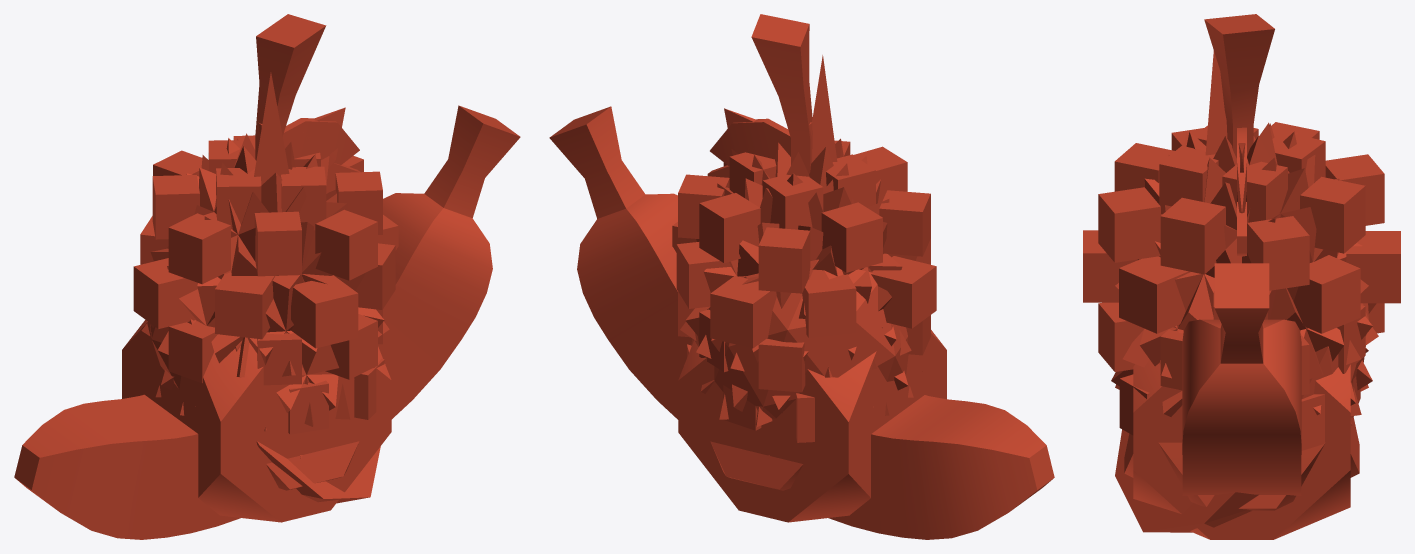
The model's file is sm_fruits.FBX.
3 renders of one model, left to right at view 1: azimuth 30°, elevation 25°; view 2: azimuth 150°, elevation 25°; view 3: azimuth 270°, elevation 25°, orthographic. The views are drawn at different scales.
Visible parts, largest first — view 1: SM_R3Z.1, SM_BANHANN, SM_P0M, SM_DURIAN, SM_P0AR, SM_AV0.K; view 2: SM_R3Z.1, SM_BANHANN, SM_P0M, SM_DURIAN, SM_AV0.K, SM_P0AR; view 3: SM_R3Z.1, SM_BANHANN, SM_DURIAN, SM_P0M, SM_AV0.K, SM_P0AR.
Boxes of the visible parts, x1=… form: SM_R3Z.1: x1=133, y1=14, x2=398, y2=434; SM_BANHANN: x1=14, y1=105, x2=520, y2=539; SM_P0M: x1=122, y1=163, x2=391, y2=522; SM_DURIAN: x1=141, y1=72, x2=389, y2=458; SM_P0AR: x1=235, y1=118, x2=359, y2=490; SM_AV0.K: x1=150, y1=246, x2=380, y2=503; SM_R3Z.1: x1=672, y1=14, x2=936, y2=442; SM_BANHANN: x1=549, y1=106, x2=1054, y2=539; SM_P0M: x1=678, y1=165, x2=946, y2=522; SM_DURIAN: x1=680, y1=55, x2=916, y2=458; SM_AV0.K: x1=691, y1=259, x2=908, y2=418; SM_P0AR: x1=710, y1=118, x2=812, y2=490; SM_R3Z.1: x1=1083, y1=14, x2=1400, y2=450; SM_BANHANN: x1=1182, y1=263, x2=1301, y2=495; SM_DURIAN: x1=1111, y1=50, x2=1378, y2=425; SM_P0M: x1=1133, y1=202, x2=1350, y2=539; SM_AV0.K: x1=1115, y1=303, x2=1368, y2=532; SM_P0AR: x1=1124, y1=127, x2=1359, y2=510.
Bounding box in the file's own units: 28.41 × 25.56 × 14.6.
